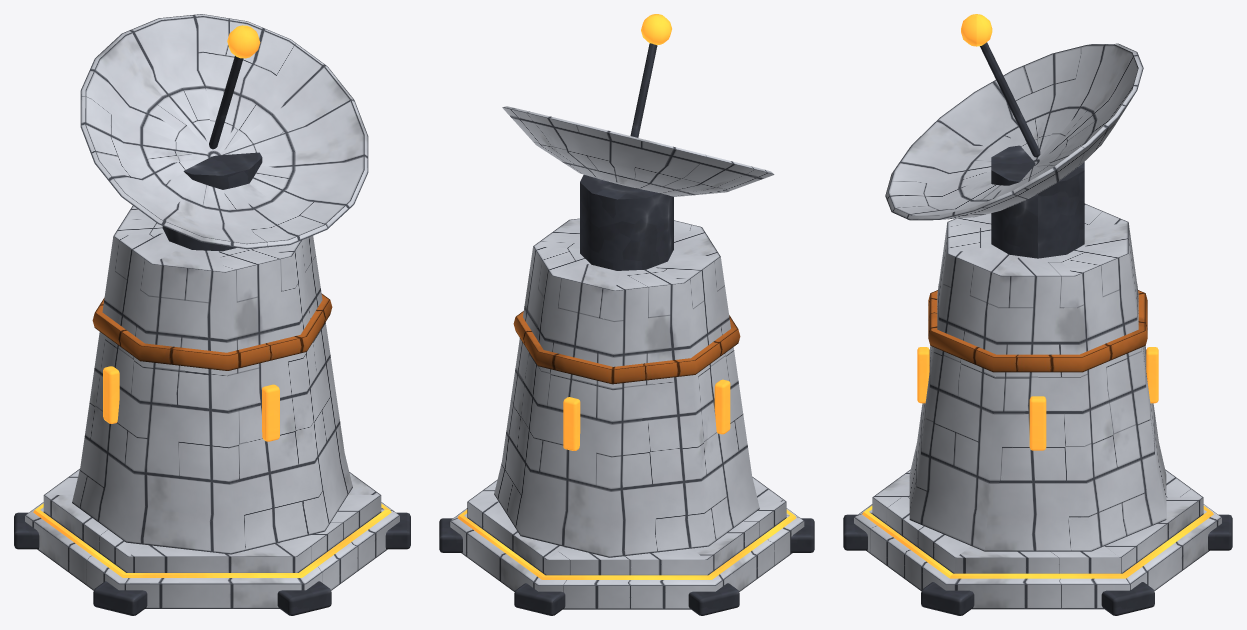
The model's file is sf_meteor.glb.
The picture shows the model from 3 angles, left to right: view 1: azimuth 30°, elevation 25°; view 2: azimuth 150°, elevation 25°; view 3: azimuth 270°, elevation 25°; orthographic projection. The views are drawn at different scales.
Visible parts, largest first — view 1: Base, Dish, Turret; view 2: Base, Dish, Turret; view 3: Base, Dish, Turret.
Boxes of the visible parts, bbox=[...] form: Base: bbox=[14, 205, 410, 615]; Dish: bbox=[80, 14, 368, 249]; Turret: bbox=[162, 152, 262, 251]; Base: bbox=[439, 218, 814, 615]; Dish: bbox=[502, 14, 774, 196]; Turret: bbox=[580, 175, 673, 270]; Base: bbox=[843, 203, 1232, 615]; Dish: bbox=[885, 14, 1143, 220]; Turret: bbox=[991, 145, 1084, 258].
Bounding box in the file's own units: 0.8765 × 1.42 × 0.952.
4 materials, 4 textured.
